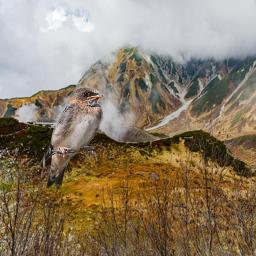Swallow: (39, 86, 105, 189)
